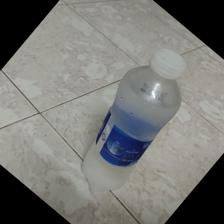Aquafina: (80, 47, 186, 200)
